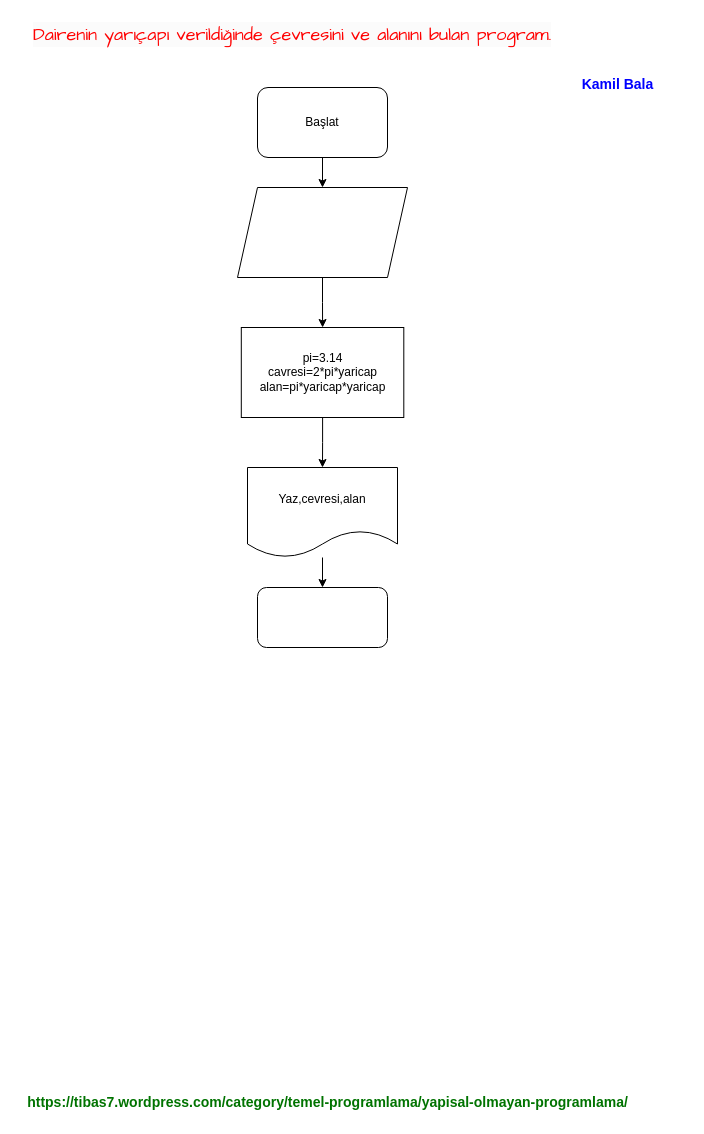
The diagram is 704 pixels wide and 1134 high, and some of its shapes have lost their labels. The shapes that lost their labels are listed below. From the top down, each one's centre as x and y in pixels, then its label:
(x=322, y=232): "Dairenin yaricapini giriniz", yaricap
(x=322, y=617): Bitir
